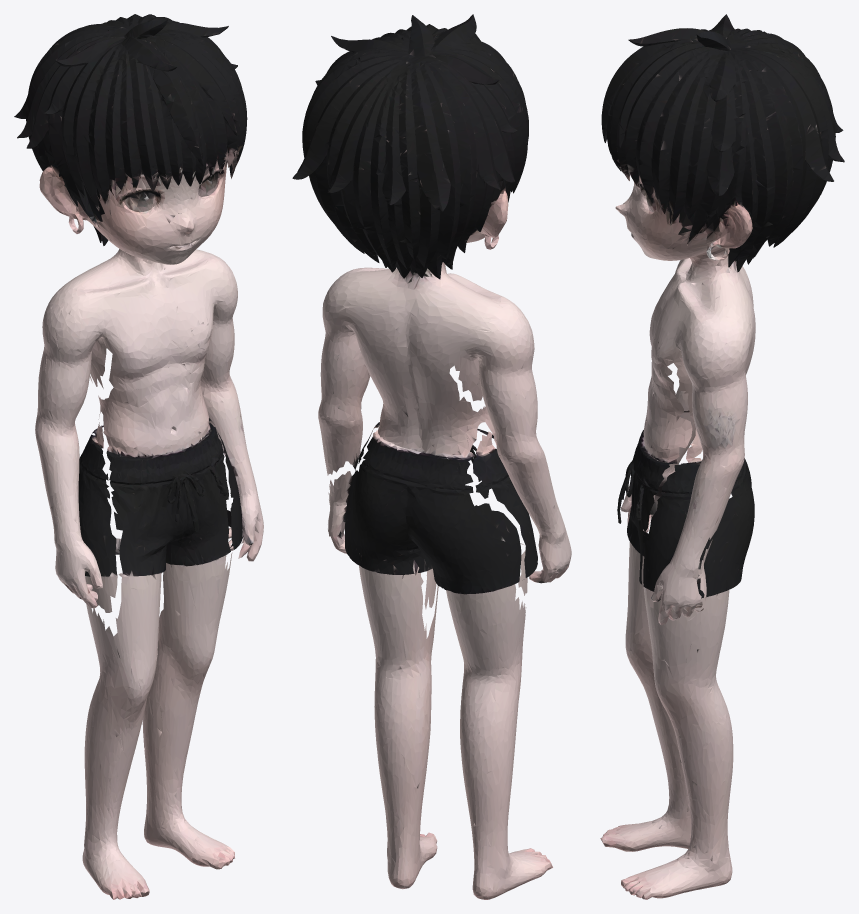
File: hero_boy.glb
The picture shows the model from 3 angles, left to right: view 1: azimuth 30°, elevation 25°; view 2: azimuth 150°, elevation 25°; view 3: azimuth 270°, elevation 25°; orthographic projection. The views are drawn at different scales.
Size of the model in its own units: 0.2697 by 1 by 0.2609.
Materials: 1 (1 with a texture image).
